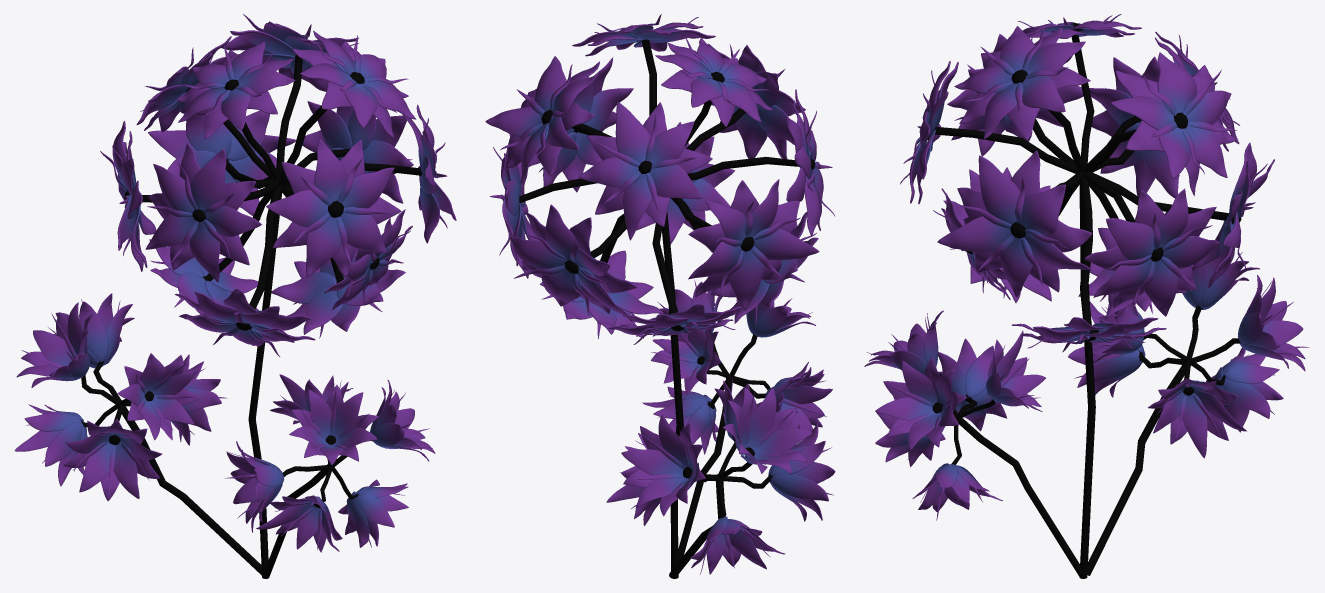
The model's file is Prop_cryo_plant_1.fbx.
The picture shows the model from 3 angles, left to right: view 1: azimuth 30°, elevation 25°; view 2: azimuth 150°, elevation 25°; view 3: azimuth 270°, elevation 25°; orthographic projection. The views are drawn at different scales.
Parts seen in each view (by area): view 1: PLANT 1; view 2: PLANT 1; view 3: PLANT 1.
Boxes of the visible parts, x1=… form: PLANT 1: x1=14, y1=14, x2=456, y2=578; PLANT 1: x1=485, y1=14, x2=835, y2=578; PLANT 1: x1=864, y1=14, x2=1309, y2=578.
Bounding box in the file's own units: 29.05 × 28.11 × 40.83.
